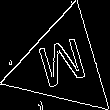M_S: (33, 34, 91, 96)
